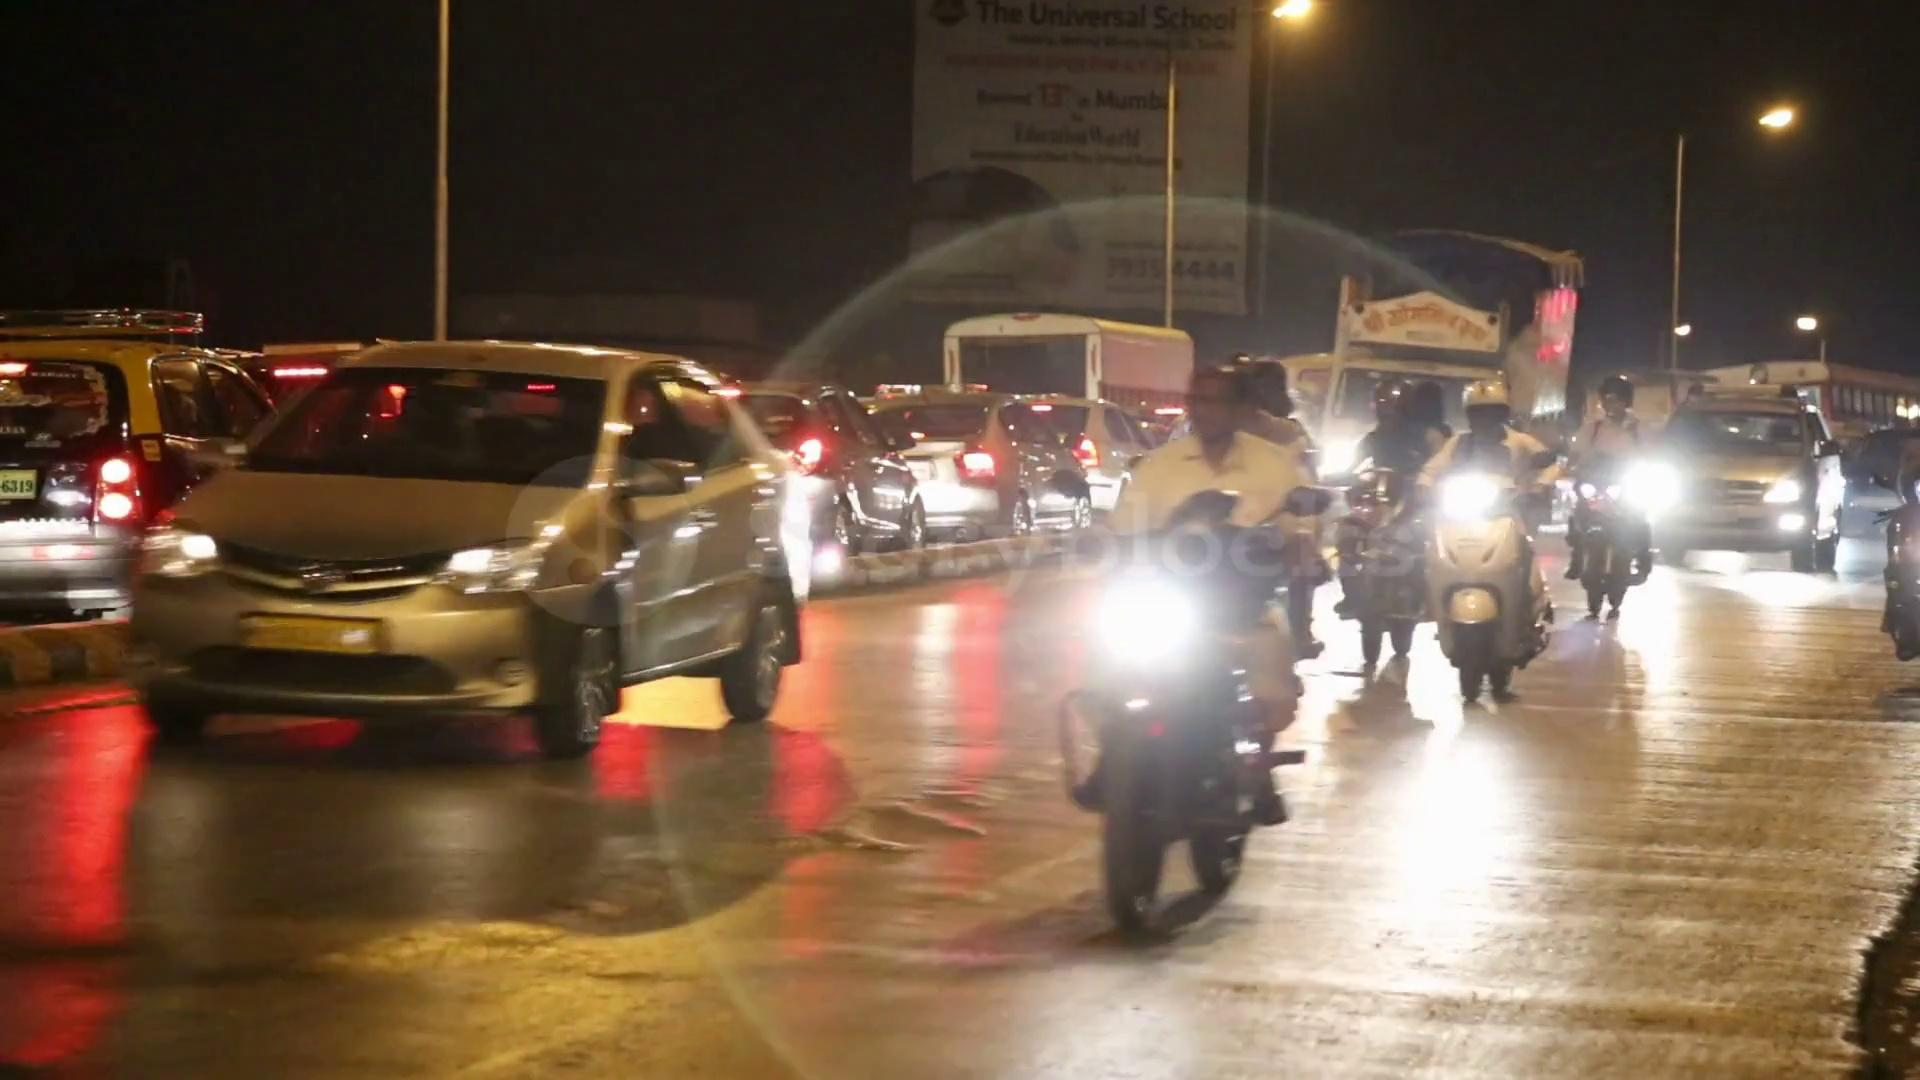rider: (1072, 360, 1329, 828), (1444, 373, 1557, 704), (1351, 363, 1430, 670), (1590, 370, 1654, 619)
with_helmate: (1457, 381, 1520, 441), (1597, 377, 1637, 423)
without_helmate: (1186, 364, 1246, 449)
